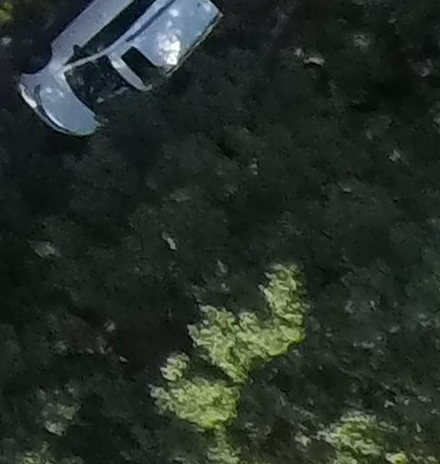car: (26, 1, 234, 177)
